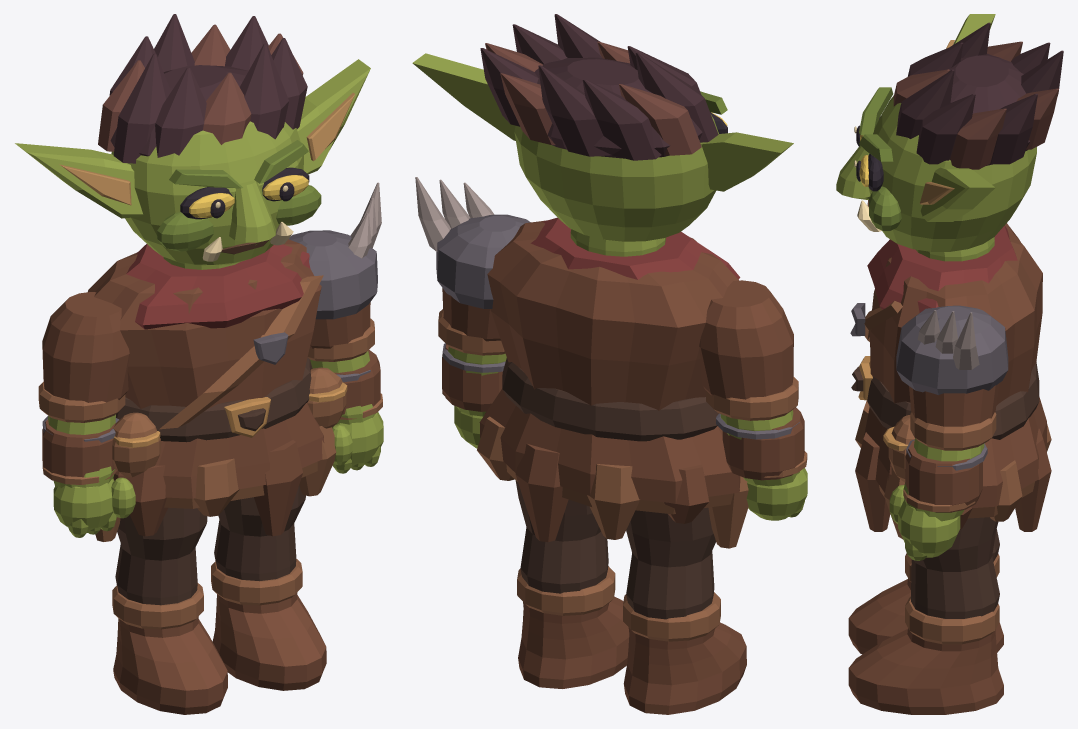
Rendered from GoblinRaider.obj.
3 views of the same model, side by side, from view 1: azimuth 30°, elevation 25°; view 2: azimuth 150°, elevation 25°; view 3: azimuth 270°, elevation 25° (orthographic). The views are drawn at different scales.
Visible parts, largest first — view 1: Body, ArmL, LegL, LegR, ArmR; view 2: Body, LegL, ArmL, LegR, ArmR; view 3: Body, ArmR, LegR, LegL.
Part boxes in pixels (x1=…): Body: x1=15, y1=14, x2=370, y2=541; ArmL: x1=38, y1=292, x2=135, y2=537; LegL: x1=112, y1=507, x2=227, y2=714; LegR: x1=211, y1=485, x2=326, y2=690; ArmR: x1=288, y1=182, x2=383, y2=473; Body: x1=412, y1=14, x2=793, y2=548; LegL: x1=623, y1=507, x2=746, y2=714; ArmL: x1=699, y1=280, x2=807, y2=520; LegR: x1=515, y1=480, x2=629, y2=688; ArmR: x1=415, y1=177, x2=530, y2=448; Body: x1=836, y1=14, x2=1063, y2=539; ArmR: x1=889, y1=305, x2=1008, y2=560; LegR: x1=848, y1=517, x2=1003, y2=714; LegL: x1=848, y1=529, x2=1003, y2=654.
Bounding box in the file's own units: 1.17 × 1.93 × 0.6329.
1 material, 1 textured.
